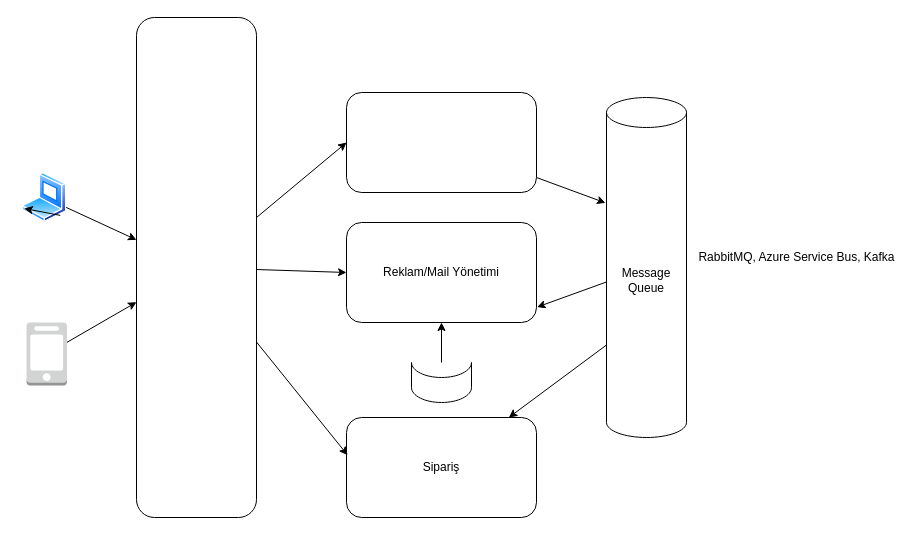
Image size: 924x535. Some labels were removed from this diagram. The centre of each missing label's shape, as x and y in pixels:
"API Gateway" belongs at point 196,267.
"Müşteri Kayıt" belongs at point 441,142.
